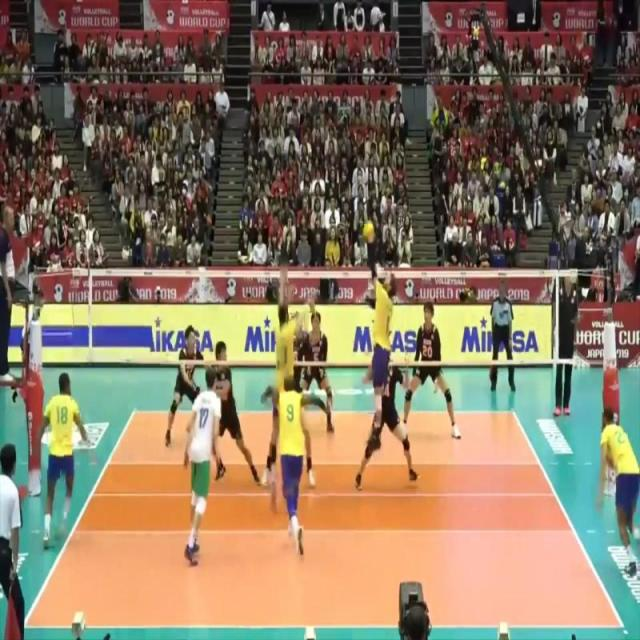volleyball: (359, 214, 378, 248)
